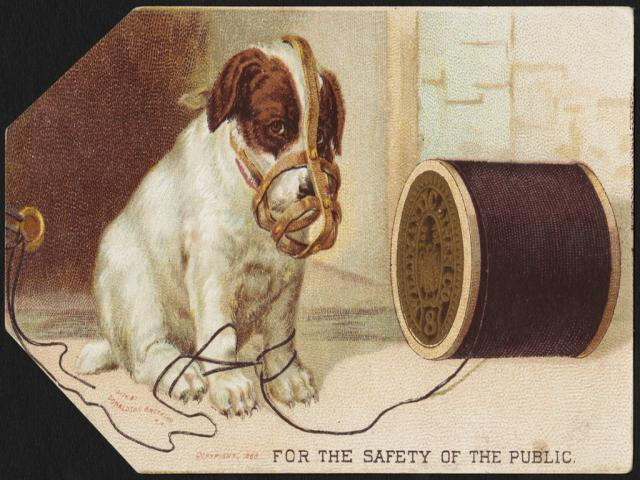Dog: (74, 35, 346, 422)
